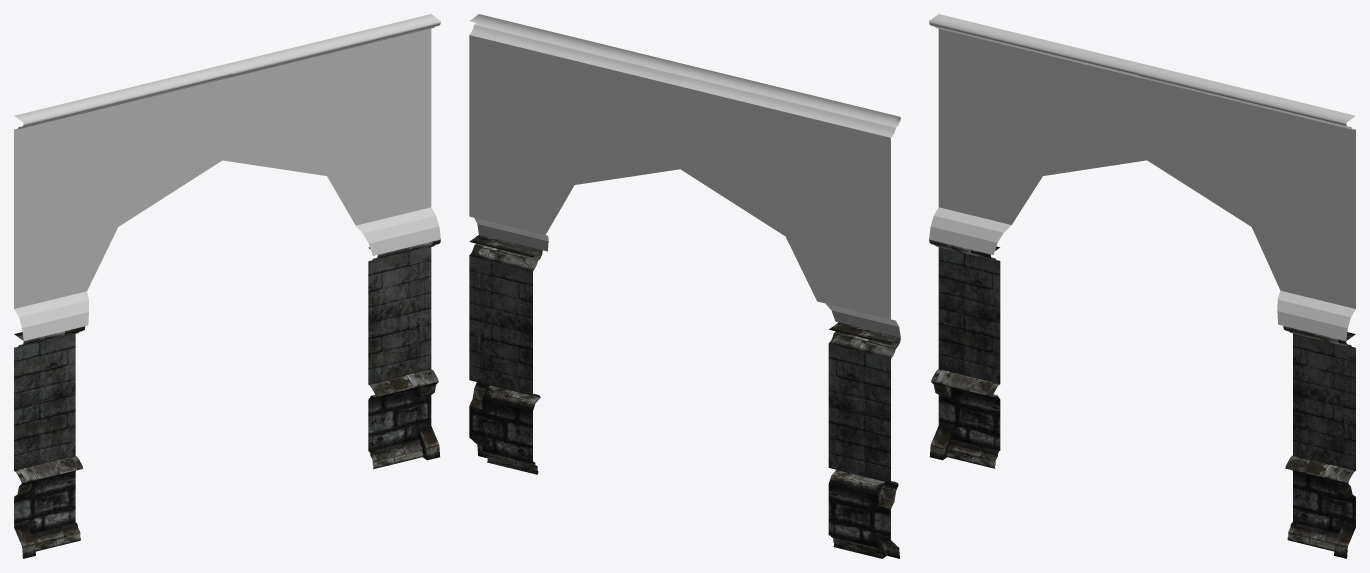
The model's file is door_way_large_arched_alt.dae.
3 renders of one model, left to right at view 1: azimuth 30°, elevation 25°; view 2: azimuth 150°, elevation 25°; view 3: azimuth 330°, elevation 25°, orthographic.
Parts seen in each view (by area): view 1: wall_extension_polySurface112, wall_extension_polySurface111, polySurface112, polySurface144; view 2: wall_extension_polySurface112, wall_extension_polySurface111, polySurface144, polySurface112; view 3: wall_extension_polySurface112, wall_extension_polySurface111, polySurface144, polySurface112.
Part boxes in pixels (left/top/right/bottom): wall_extension_polySurface112: left=222, top=14, right=440, bottom=255; wall_extension_polySurface111: left=14, top=65, right=232, bottom=340; polySurface112: left=368, top=239, right=440, bottom=469; polySurface144: left=14, top=326, right=85, bottom=558; wall_extension_polySurface112: left=469, top=14, right=689, bottom=251; wall_extension_polySurface111: left=680, top=65, right=900, bottom=337; polySurface144: left=828, top=322, right=900, bottom=558; polySurface112: left=469, top=235, right=542, bottom=474; wall_extension_polySurface112: left=1137, top=65, right=1355, bottom=340; wall_extension_polySurface111: left=929, top=14, right=1147, bottom=254; polySurface144: left=929, top=239, right=1000, bottom=468; polySurface112: left=1283, top=326, right=1355, bottom=558.
Bounding box in the file's own units: 8 × 8 × 0.3219.
